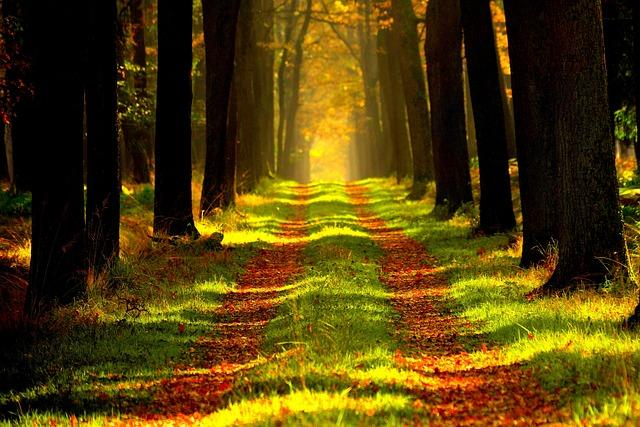Non_Gorille: (112, 5, 560, 410)
